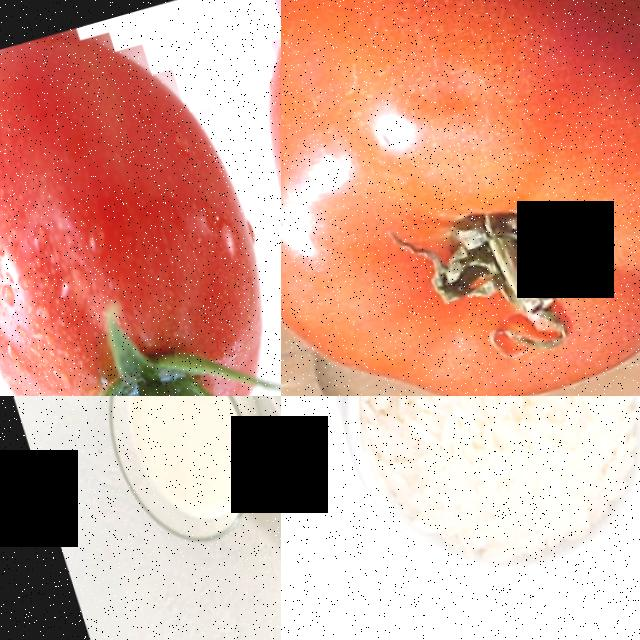milk: (107, 396, 243, 515)
tomato: (281, 0, 640, 396), (0, 0, 281, 396), (217, 0, 281, 396)
white rice: (330, 396, 640, 586)
